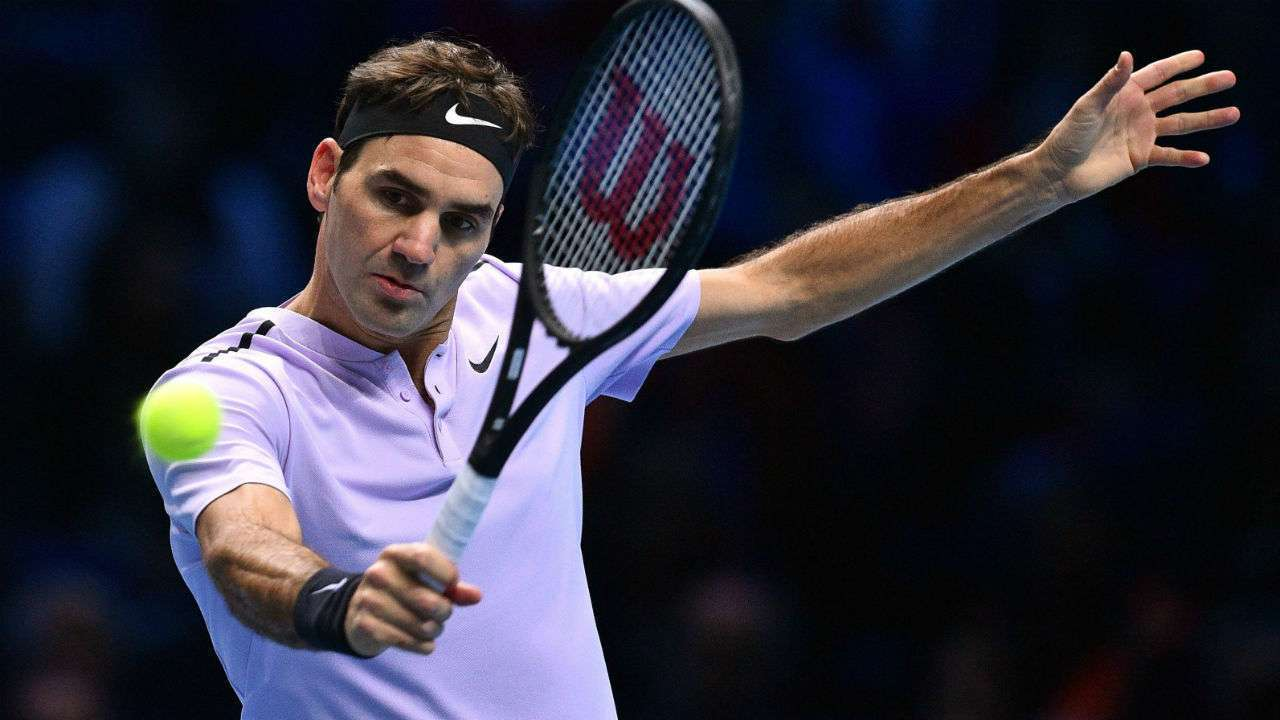aim: (131, 383, 223, 462)
